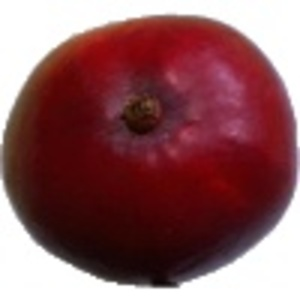manga: (1, 13, 300, 288)
